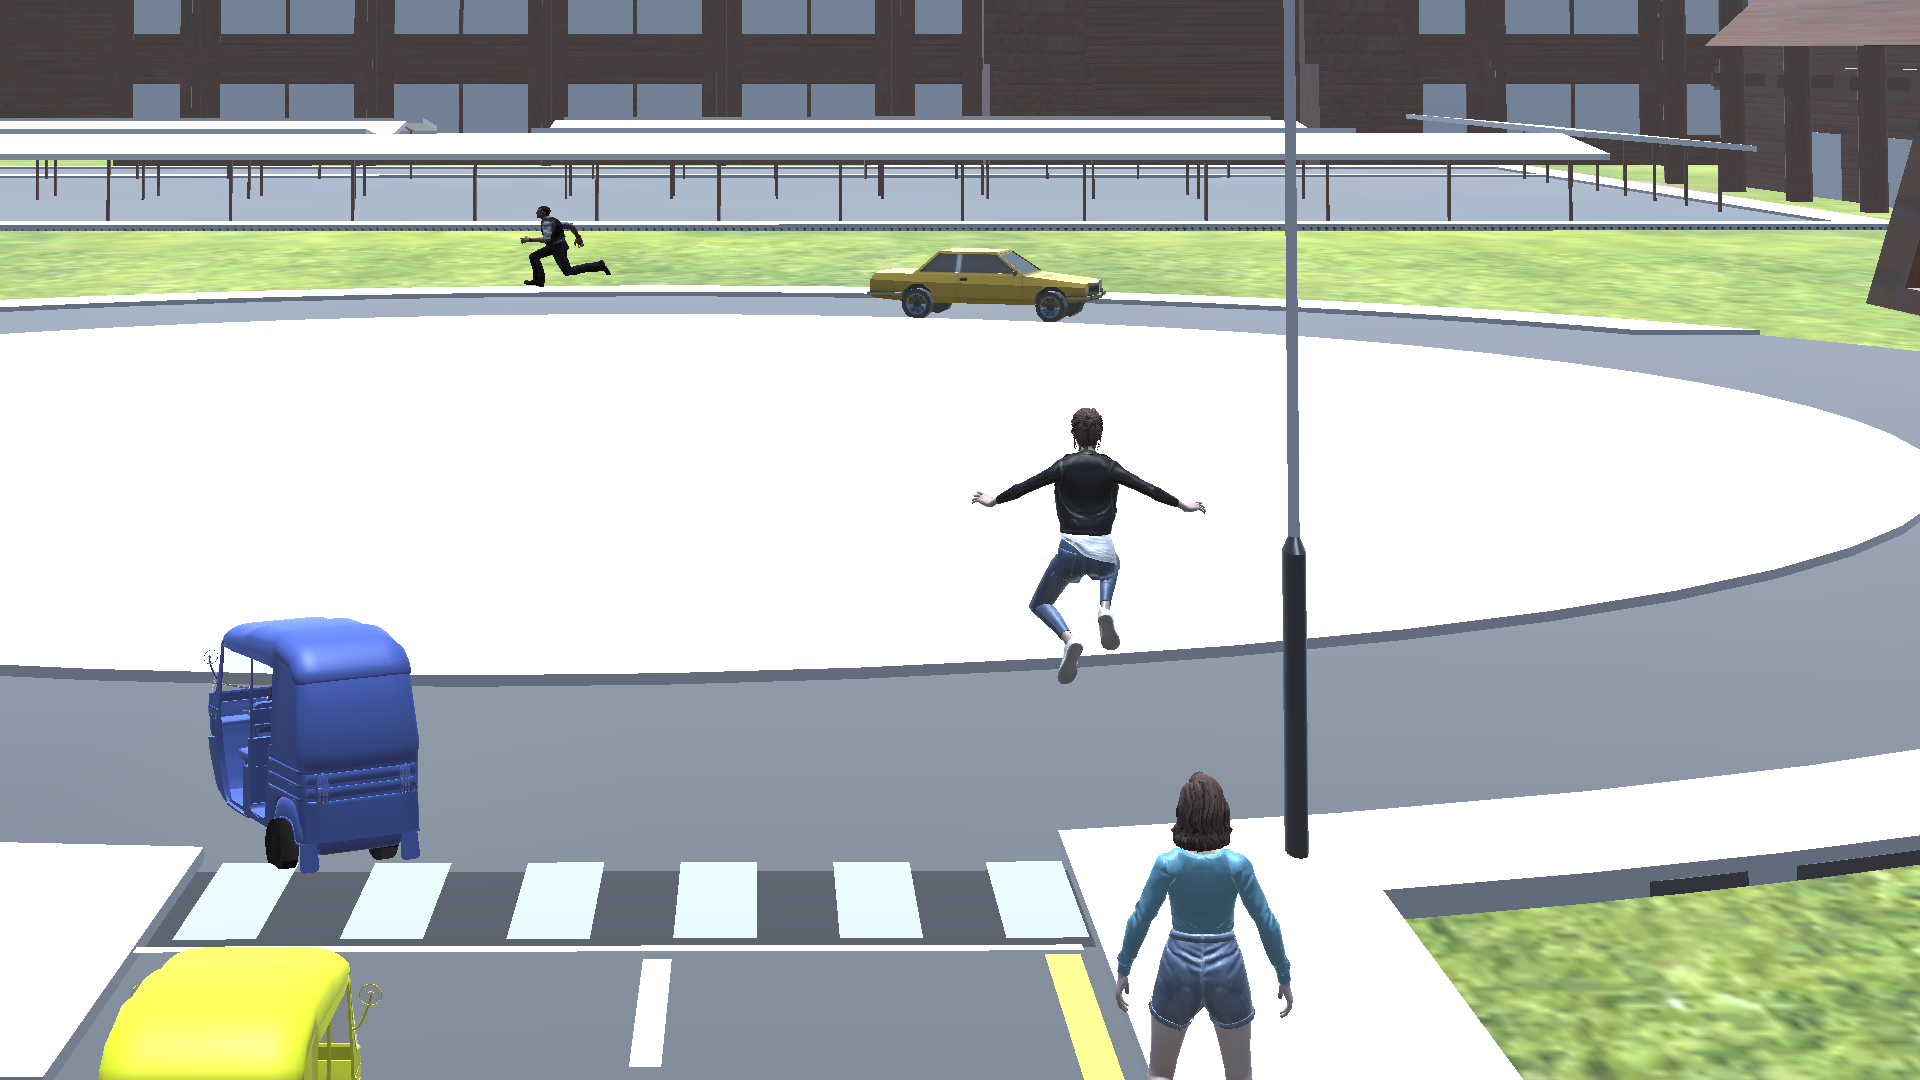pedestrian: (968, 398, 1216, 692), (1097, 765, 1308, 1080), (512, 198, 621, 293)
